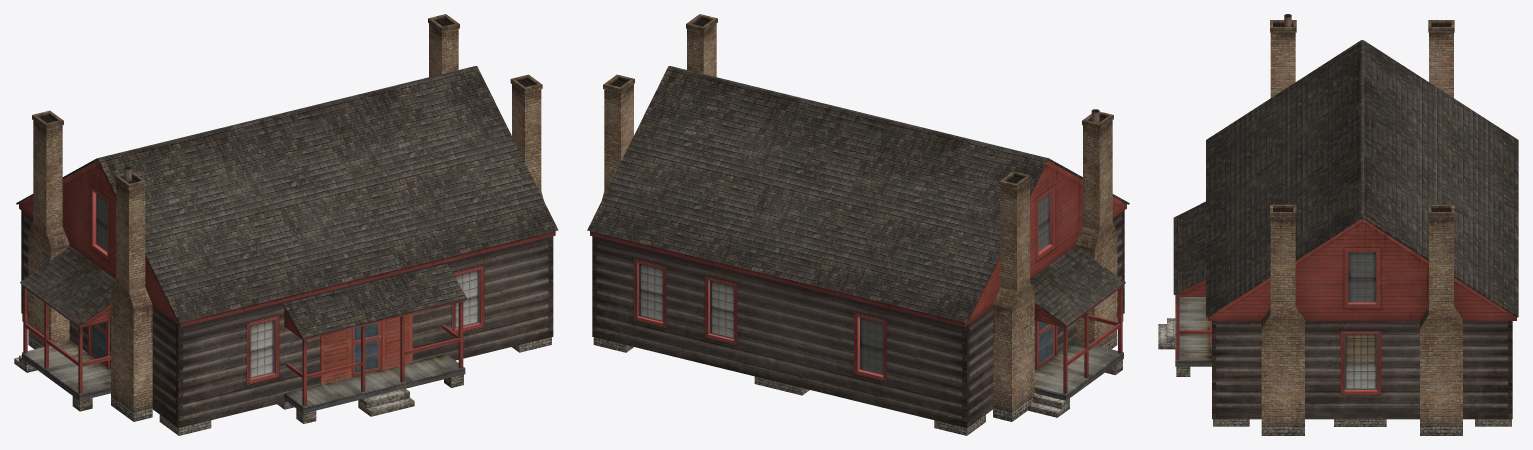
File: house.obj
The picture shows the model from 3 angles, left to right: view 1: azimuth 30°, elevation 25°; view 2: azimuth 150°, elevation 25°; view 3: azimuth 270°, elevation 25°; orthographic projection. The views are drawn at different scales.
Visible parts, largest first — view 1: house; view 2: house; view 3: house.
Part boxes in pixels (x1,y1,x2,y2): house: (14,14,558,435); house: (587,14,1129,435); house: (1158,14,1518,435).
Bounding box in the file's own units: 7.98 × 4.15 × 5.85.
Materials: 1 (1 with a texture image).
